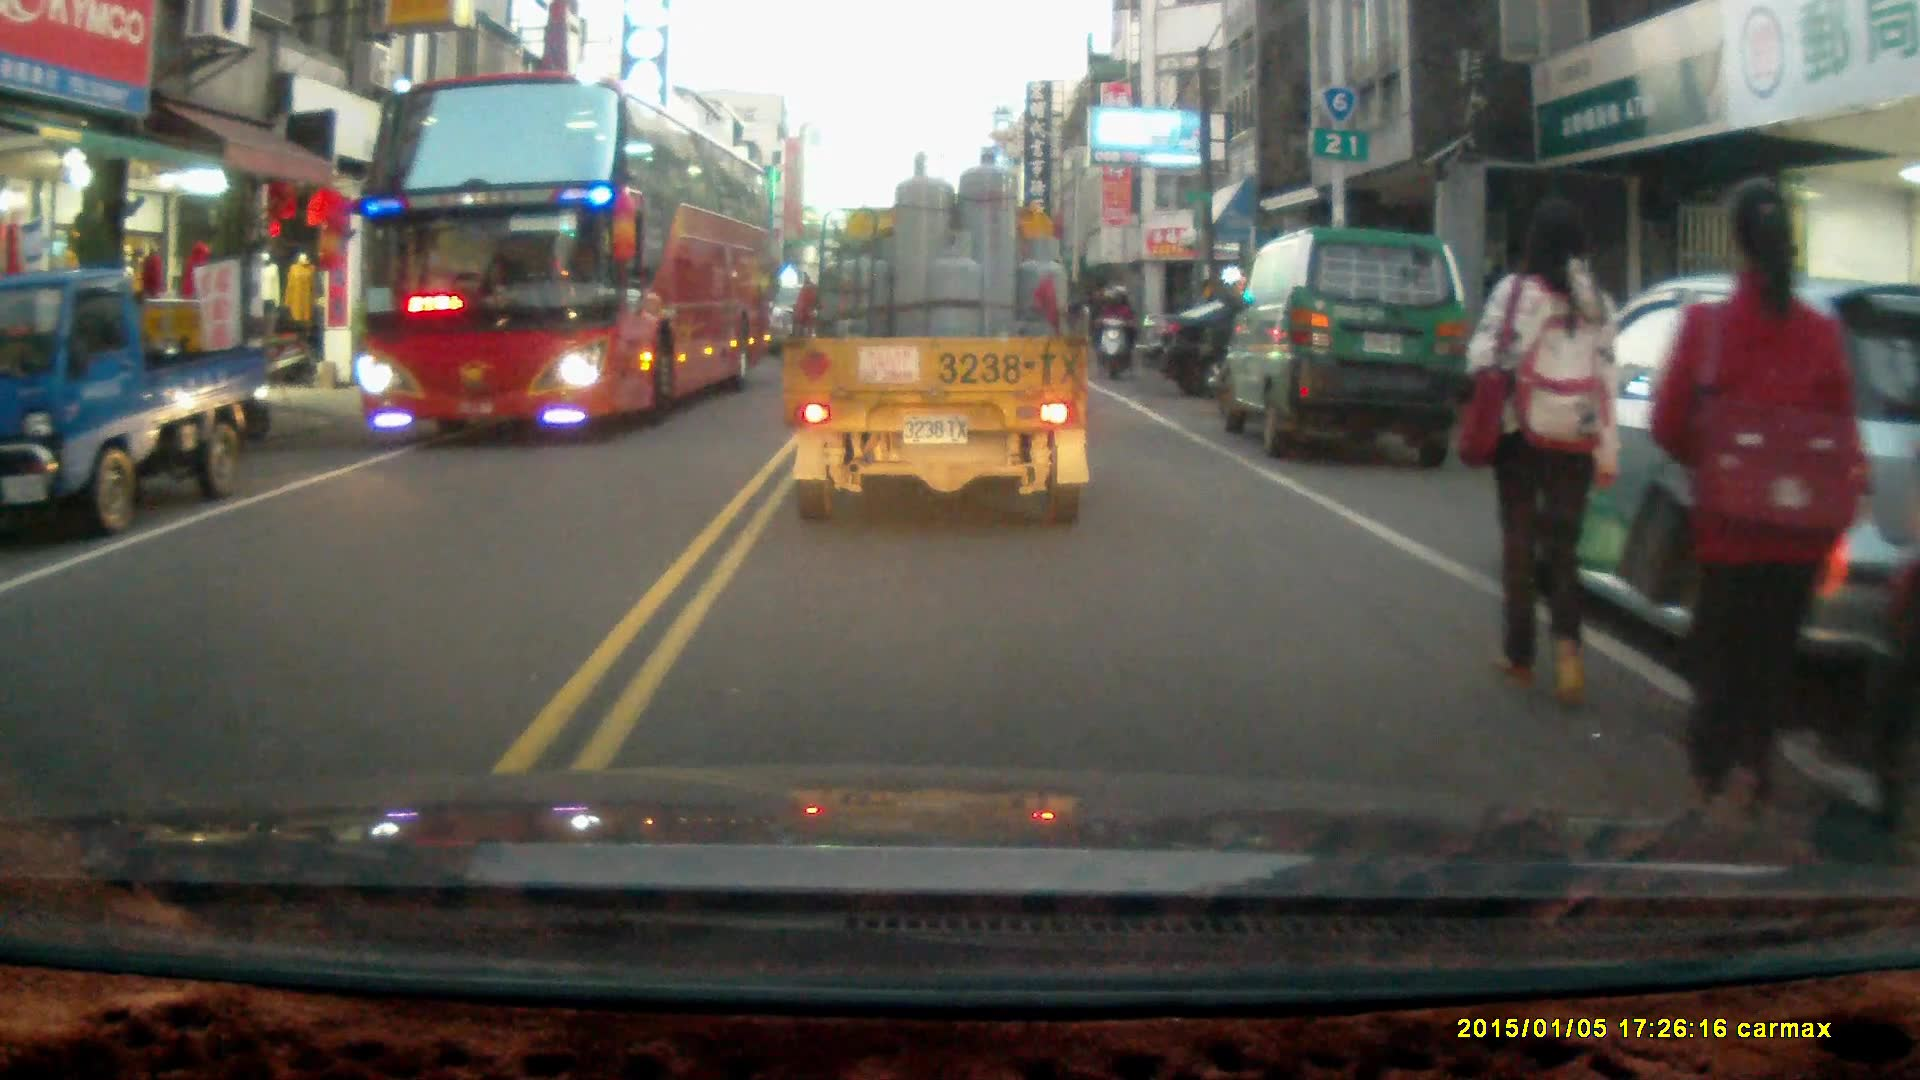pedestrian: (1652, 183, 1866, 894), (1465, 196, 1631, 717)
rider: (1091, 284, 1136, 380)
vehicle: (350, 76, 780, 444), (785, 149, 1096, 533), (1, 266, 275, 539), (1222, 225, 1469, 461), (1133, 303, 1430, 404)
